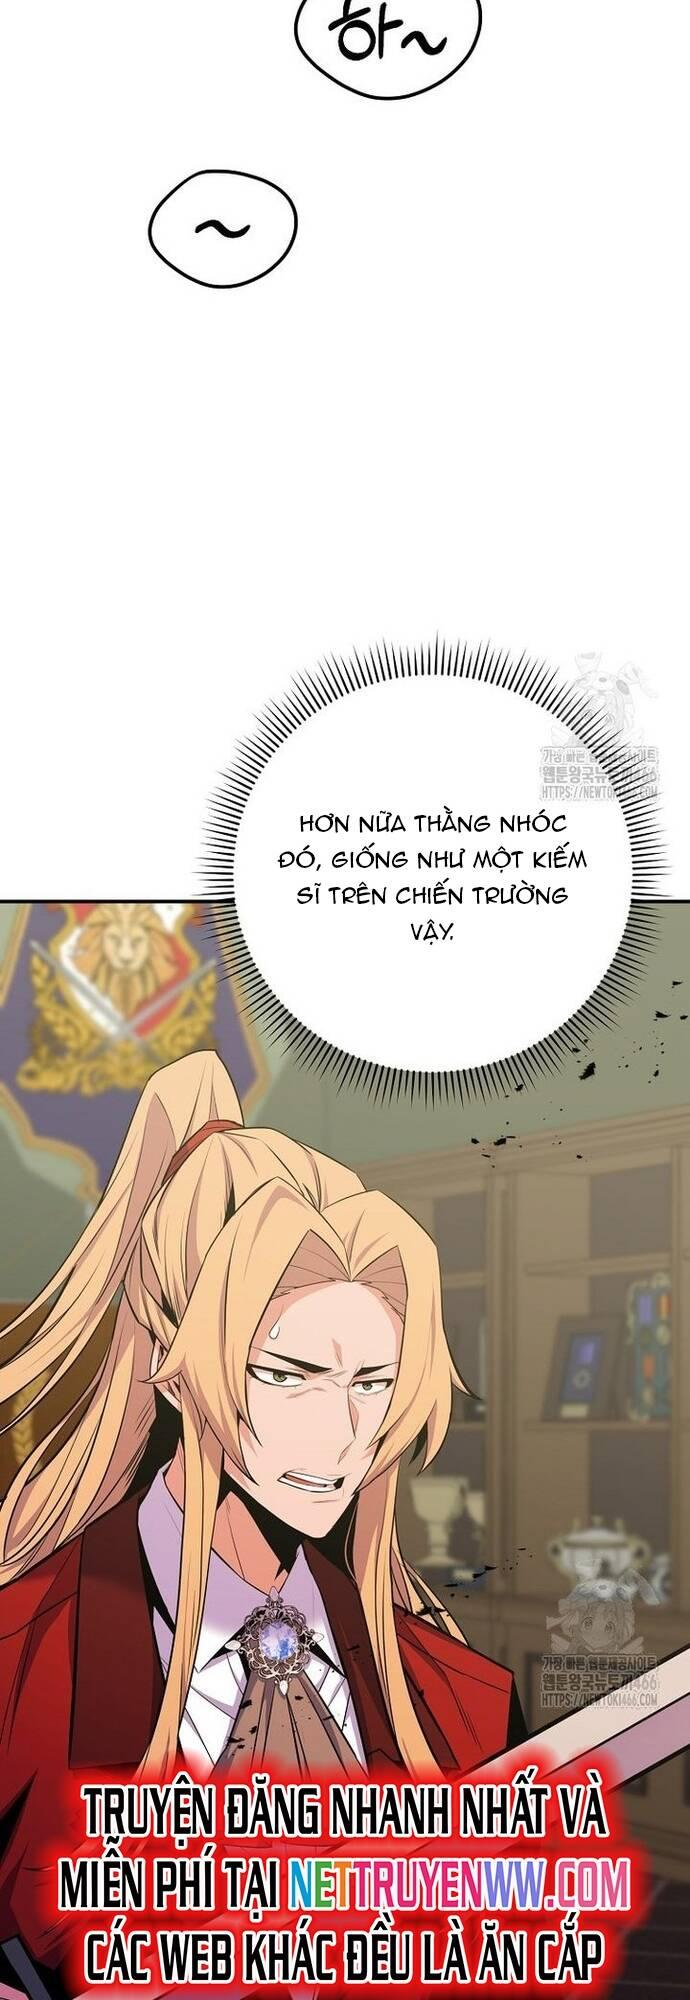quangcao: (60, 1765, 640, 2000)
